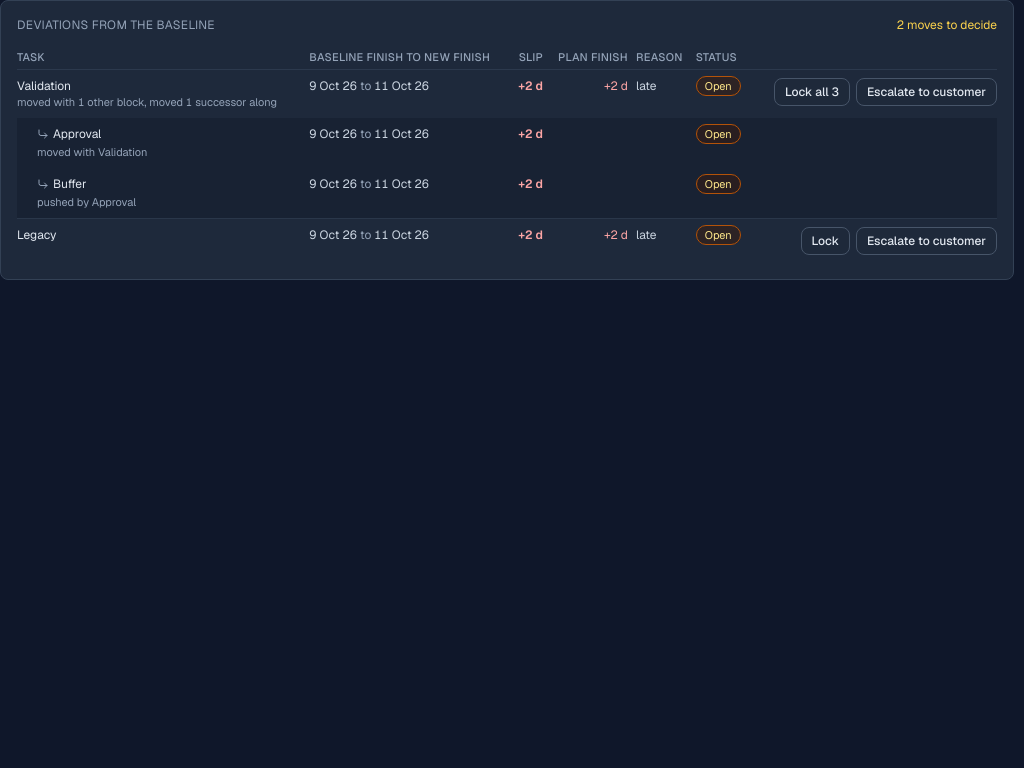
it: DeviationsPanel with server groups › escalates the whole group under one escalation
Later steps or results of the test are not shown.
Click the button with test id "deviation-escalate-40". click: (926, 92)
box: [856,78,997,106]
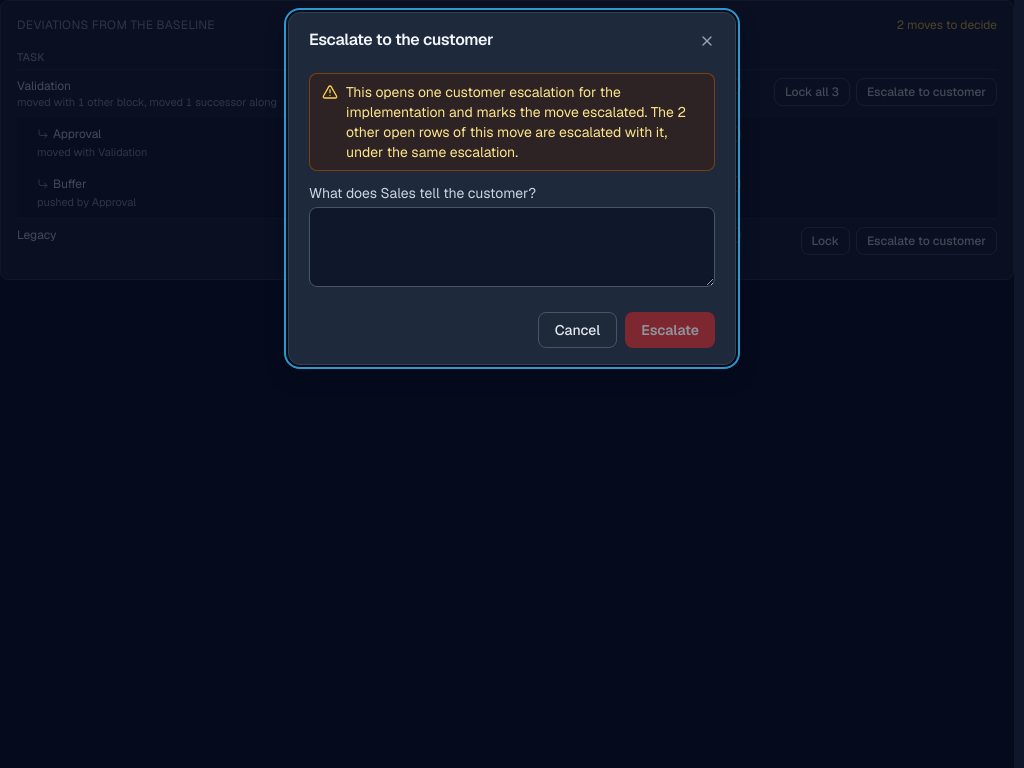
Result: the dialog shows "The 2 other open rows of this move are escalated with it" at [346,83,686,161]
